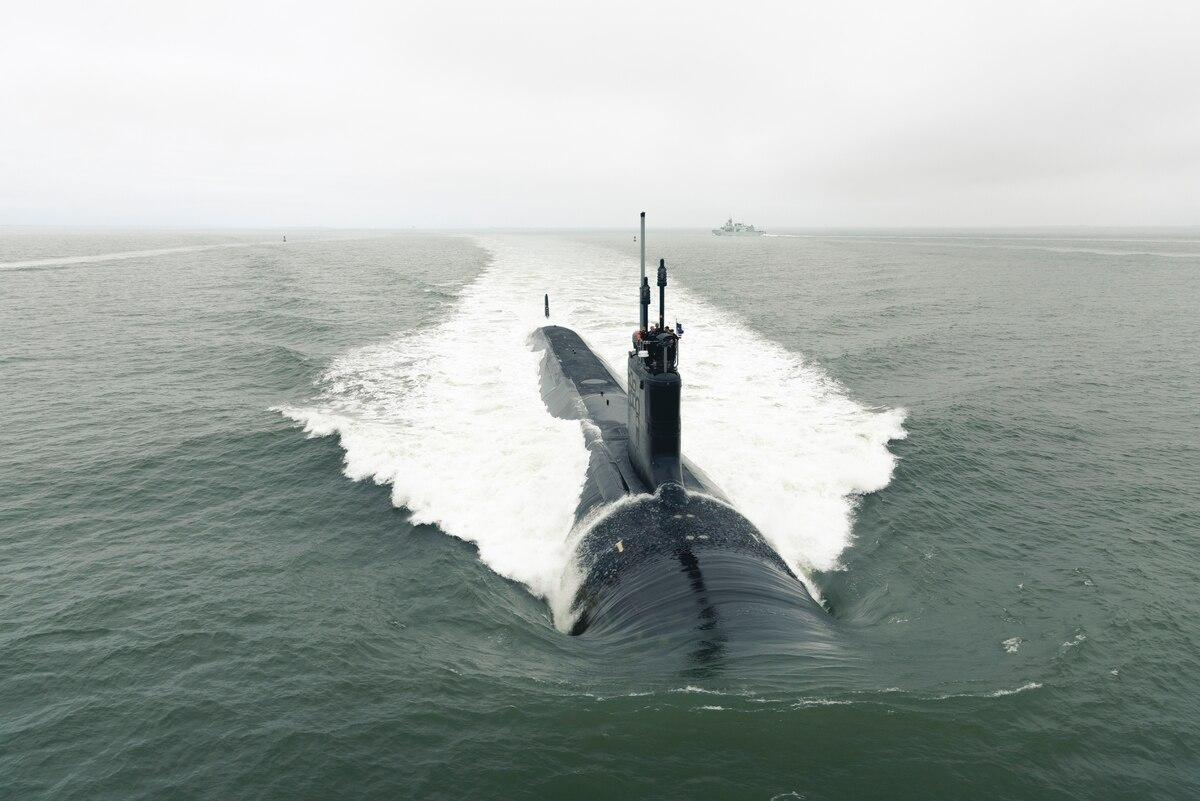Submarine: (252, 90, 1002, 772)
